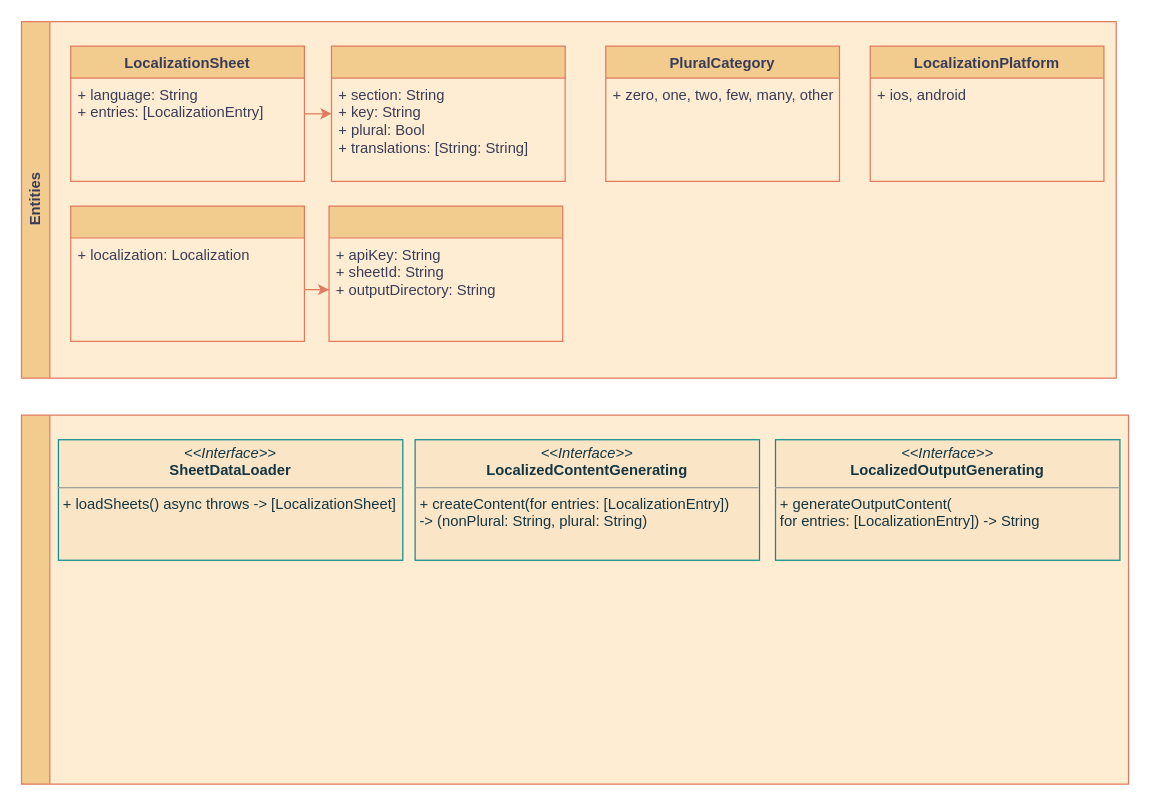
Image size: 1150x806. Some labels were removed from this diagram. The shapes that lost their labels are listed below. From the top down, each one's box as (x1, y1, x2, y2) in pixels, then its label:
(330, 45, 565, 181): LocalizationEntry
(69, 205, 304, 341): AssetGenConfig
(328, 205, 563, 341): AssetGenConfig.Localization
(20, 414, 1129, 784): UseCases
